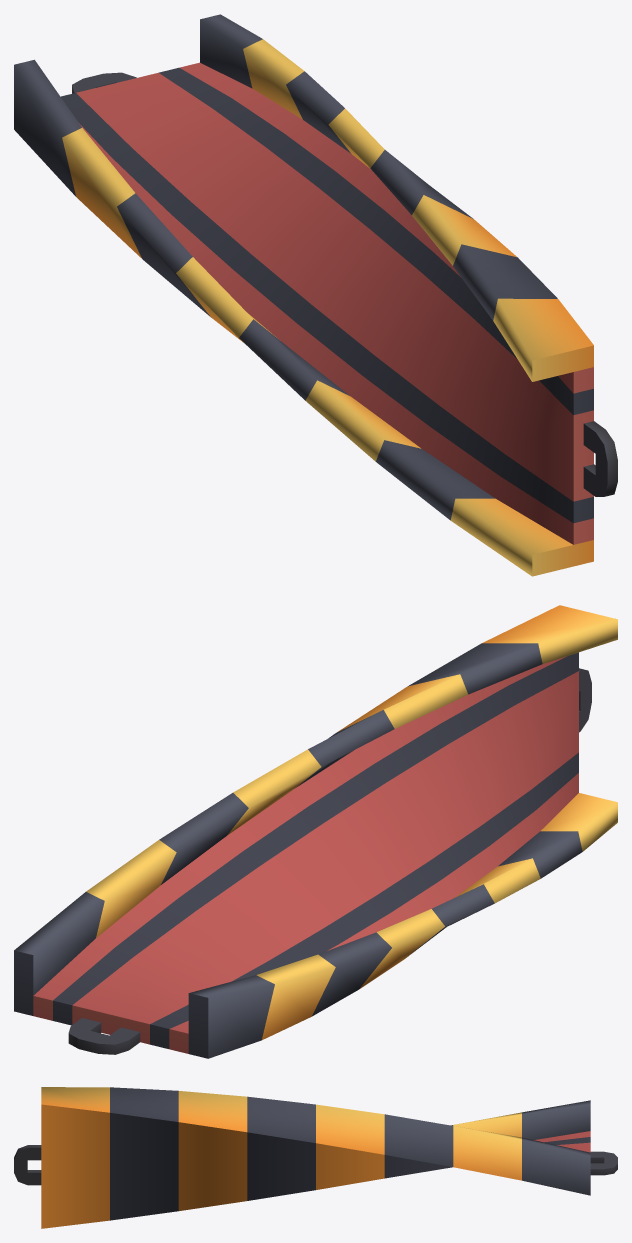
File: track-road-narrow-straight-skew-right-side.fbx
3 renders of one model, top to bottom at view 1: azimuth 30°, elevation 25°; view 2: azimuth 150°, elevation 25°; view 3: azimuth 270°, elevation 25°, orthographic. The views are drawn at different scales.
Parts seen in each view (by area): view 1: track-road-narrow-straight-skew-right-side; view 2: track-road-narrow-straight-skew-right-side; view 3: track-road-narrow-straight-skew-right-side.
Boxes of the visible parts, x1,y1,x2,y2 form: track-road-narrow-straight-skew-right-side: (14, 14, 617, 576); track-road-narrow-straight-skew-right-side: (14, 605, 617, 1058); track-road-narrow-straight-skew-right-side: (14, 1087, 617, 1228).
Bounding box in the file's own units: 108 × 108 × 440.
